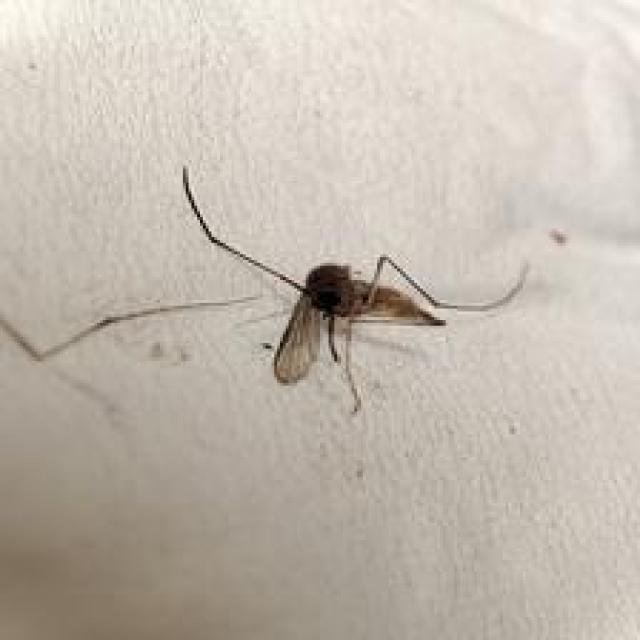Culex: (0, 162, 531, 414)
